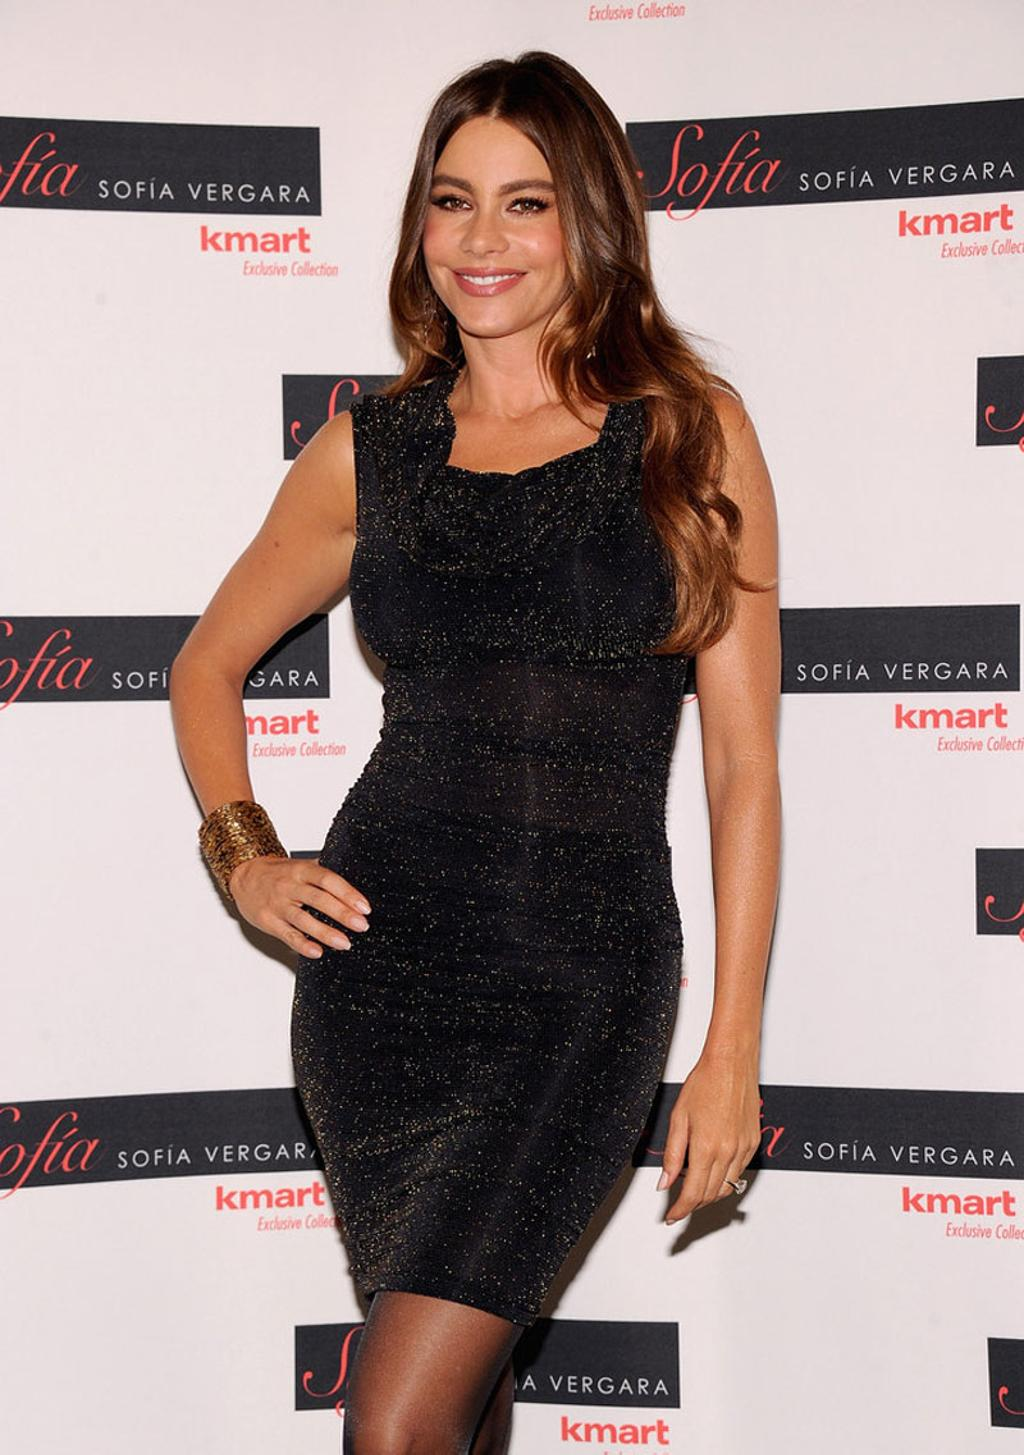face: (425, 122, 581, 335)
